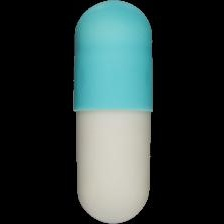0591-5535: (0, 0, 224, 224)
